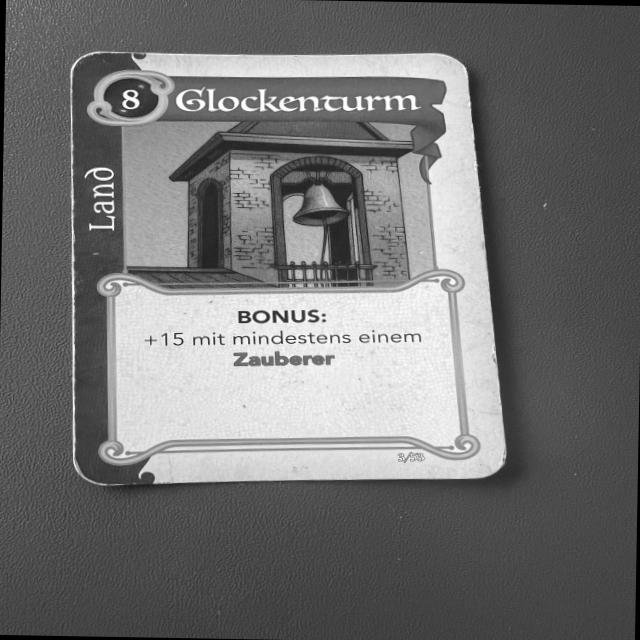Underground Caverns: (70, 48, 513, 486)
